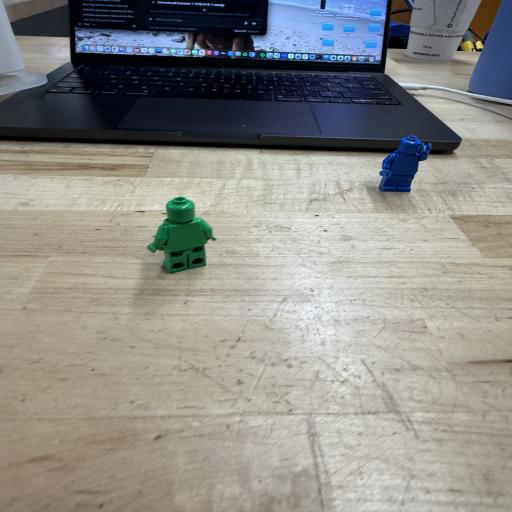blue-minifig: (379, 136, 431, 192)
green-minifig: (147, 197, 216, 273)
